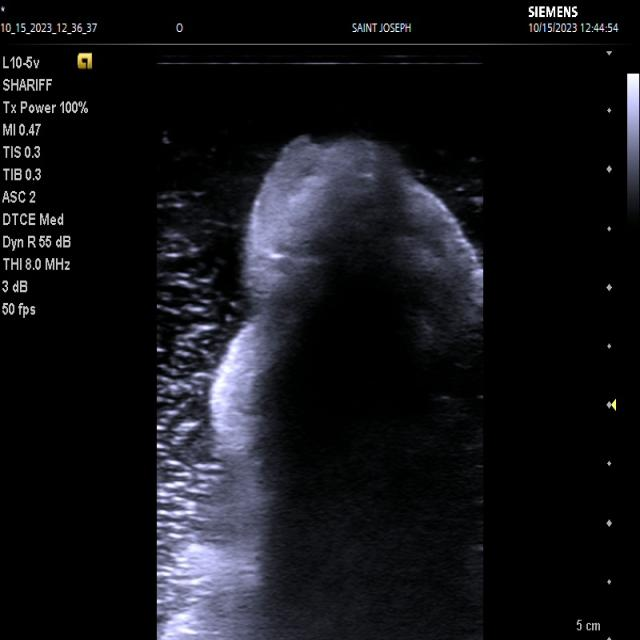tissue: (162, 134, 486, 640)
